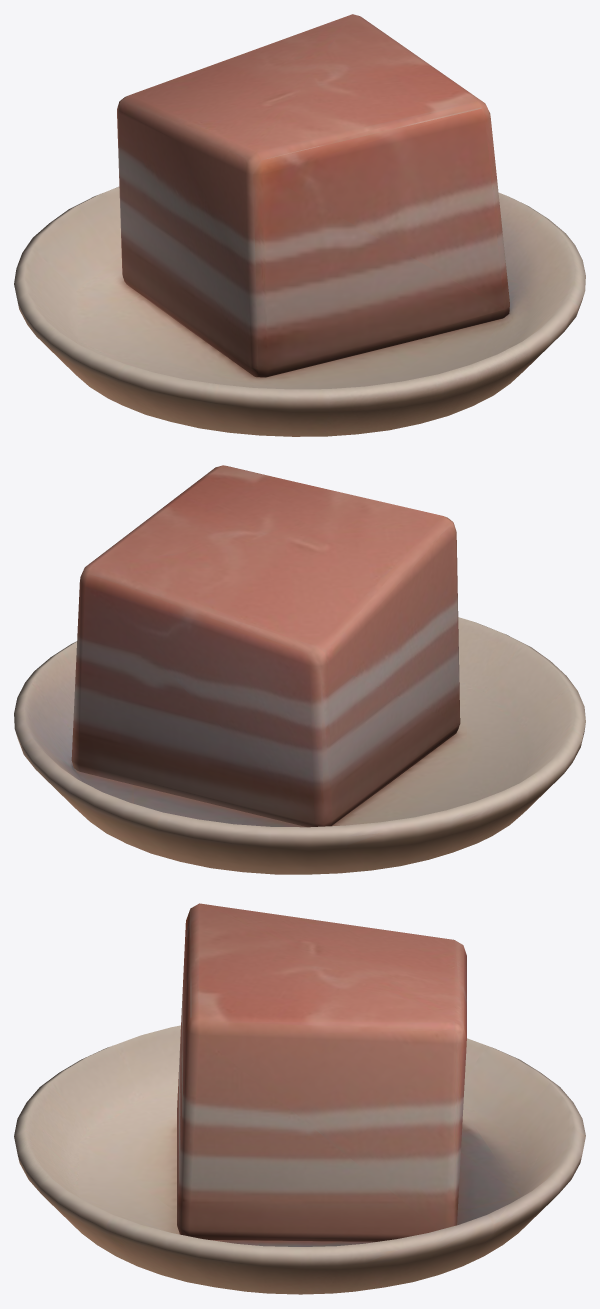
The model's file is meat_M.FBX.
The picture shows the model from 3 angles, top to bottom: view 1: azimuth 30°, elevation 25°; view 2: azimuth 150°, elevation 25°; view 3: azimuth 270°, elevation 25°; orthographic projection.
Parts seen in each view (by area): view 1: tripo_node_77cbfee6; view 2: tripo_node_77cbfee6; view 3: tripo_node_77cbfee6.
Boxes of the visible parts, left/top/right/bottom form: tripo_node_77cbfee6: left=14, top=14, right=585, bottom=436; tripo_node_77cbfee6: left=14, top=465, right=585, bottom=874; tripo_node_77cbfee6: left=14, top=903, right=585, bottom=1294.
Bounding box in the file's own units: 0.2696 × 0.1261 × 0.2685.
